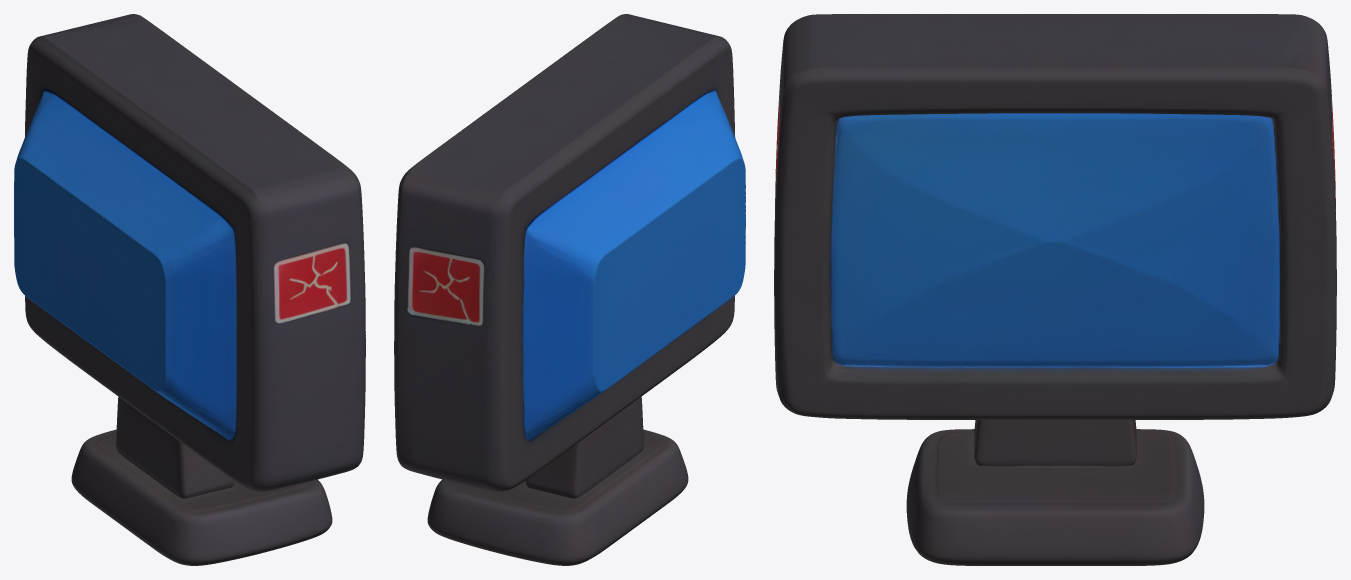
The model's file is monitor.glb.
3 renders of one model, left to right at view 1: azimuth 30°, elevation 25°; view 2: azimuth 150°, elevation 25°; view 3: azimuth 270°, elevation 25°, orthographic. The views are drawn at different scales.
Visible parts, largest first — view 1: tripo_node_672b42d7-f555-4543-9d88-352cefb03785; view 2: tripo_node_672b42d7-f555-4543-9d88-352cefb03785; view 3: tripo_node_672b42d7-f555-4543-9d88-352cefb03785.
Part boxes in pixels (x1,y1,x2,y2): tripo_node_672b42d7-f555-4543-9d88-352cefb03785: (14,14,365,565); tripo_node_672b42d7-f555-4543-9d88-352cefb03785: (394,14,745,565); tripo_node_672b42d7-f555-4543-9d88-352cefb03785: (774,14,1336,565).
Size of the model in its own units: 0.4672 by 0.9394 by 1.
Materials: 1 (1 with a texture image).
